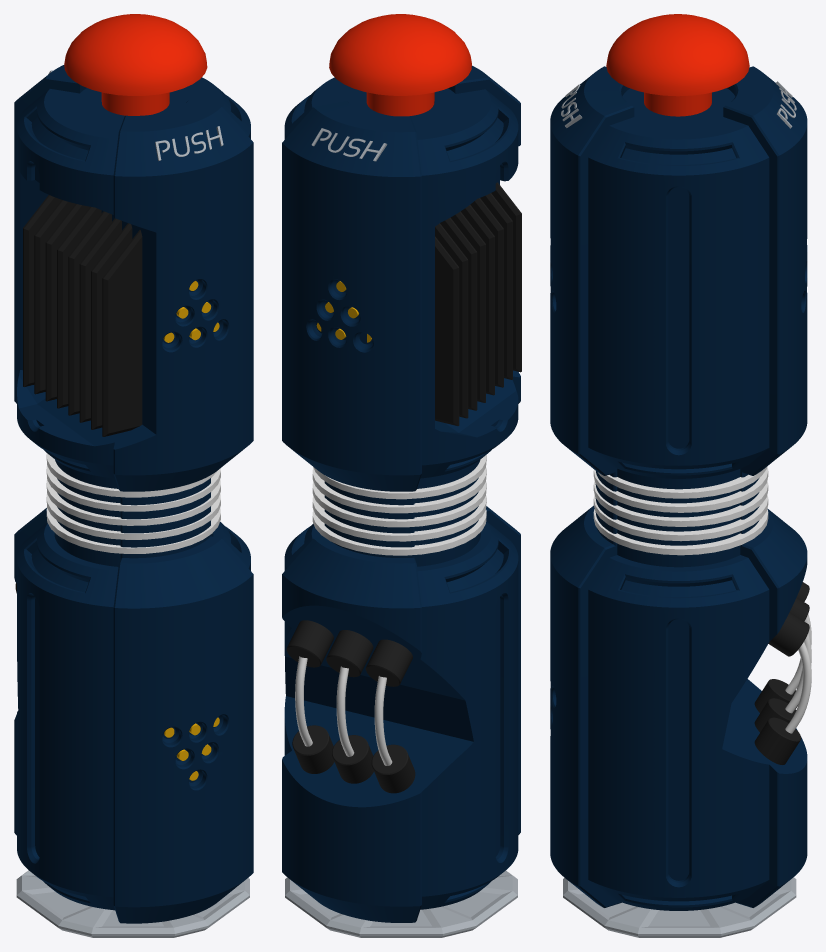
Rendered from button.fbx.
3 views of the same model, side by side, from view 1: azimuth 30°, elevation 25°; view 2: azimuth 150°, elevation 25°; view 3: azimuth 270°, elevation 25° (orthographic).
Visible parts, largest first — view 1: switch_a, button_a; view 2: switch_a, button_a; view 3: switch_a, button_a.
Part boxes in pixels (left/top/right/bottom): switch_a: left=14, top=65, right=253, bottom=937; button_a: left=64, top=14, right=207, bottom=115; switch_a: left=282, top=65, right=521, bottom=937; button_a: left=329, top=14, right=471, bottom=116; switch_a: left=550, top=66, right=811, bottom=937; button_a: left=606, top=14, right=749, bottom=116.
Size of the model in its own units: 26.73 by 110 by 29.86.
